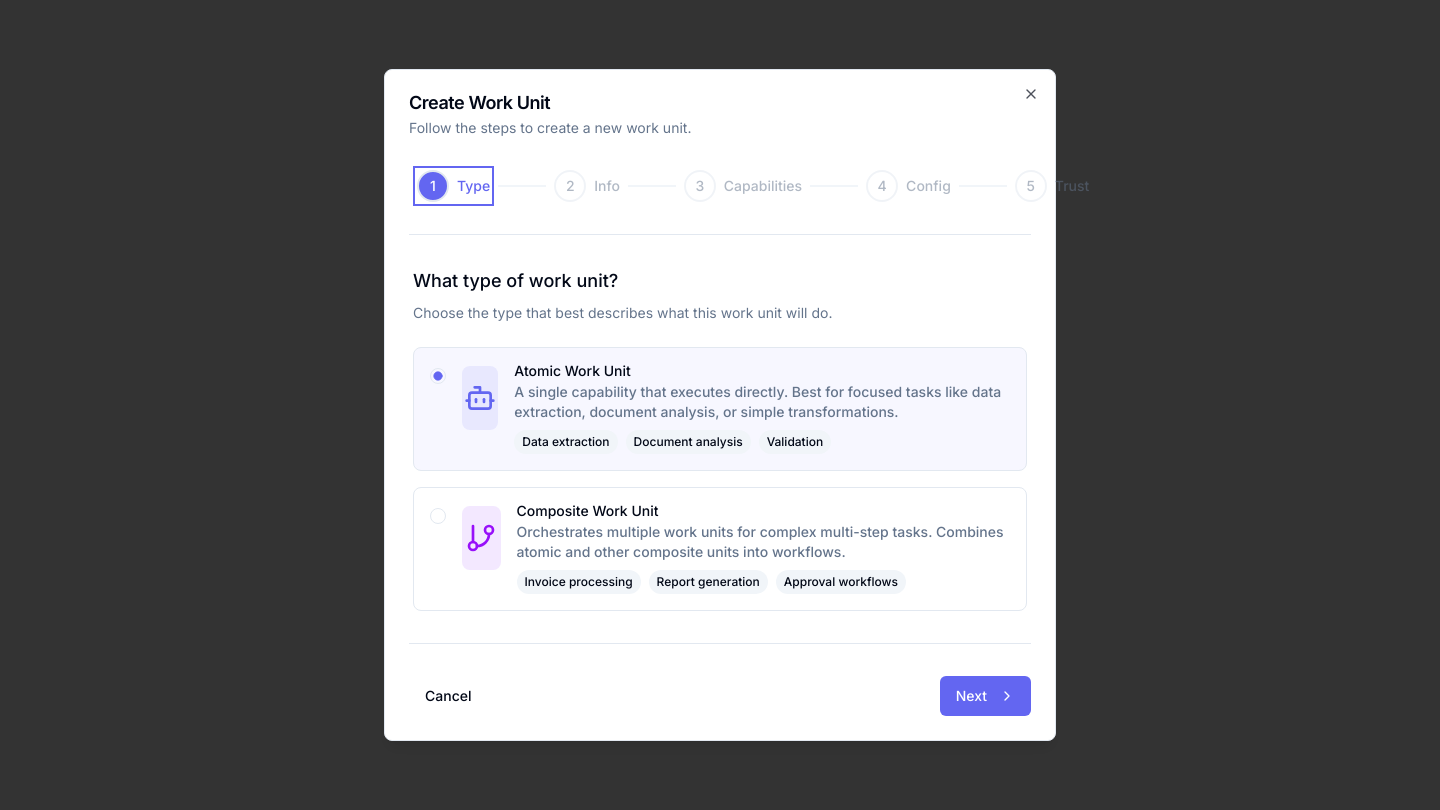
Test: WorkUnitCreateWizard › Step Navigation › should navigate back when clicking Back
Click the button with test id "wizard-next-btn".
click(985, 696)  # box x1=940 y1=676 x2=1031 y2=716
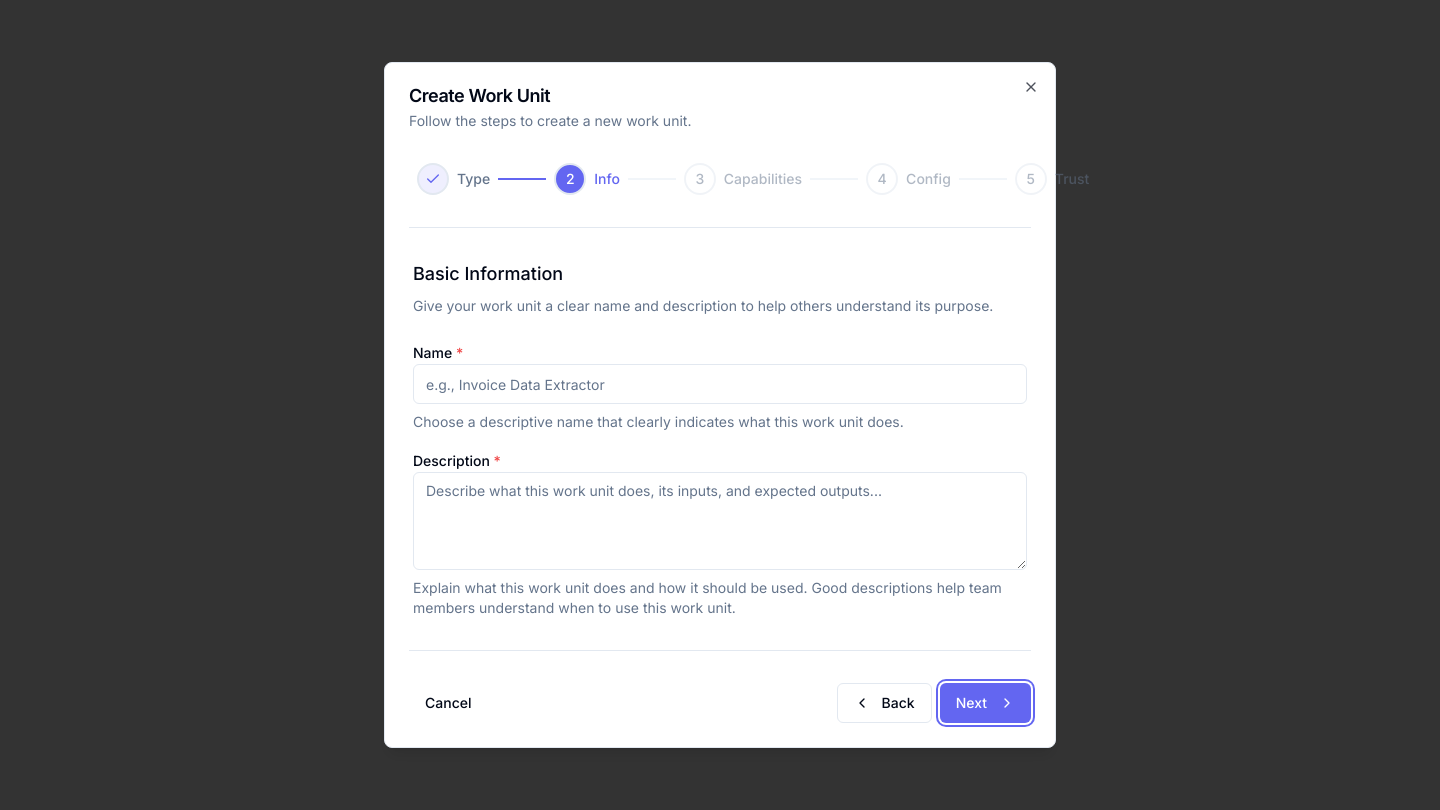
Click the button with test id "wizard-back-btn".
click(884, 703)  # box x1=837 y1=683 x2=932 y2=723
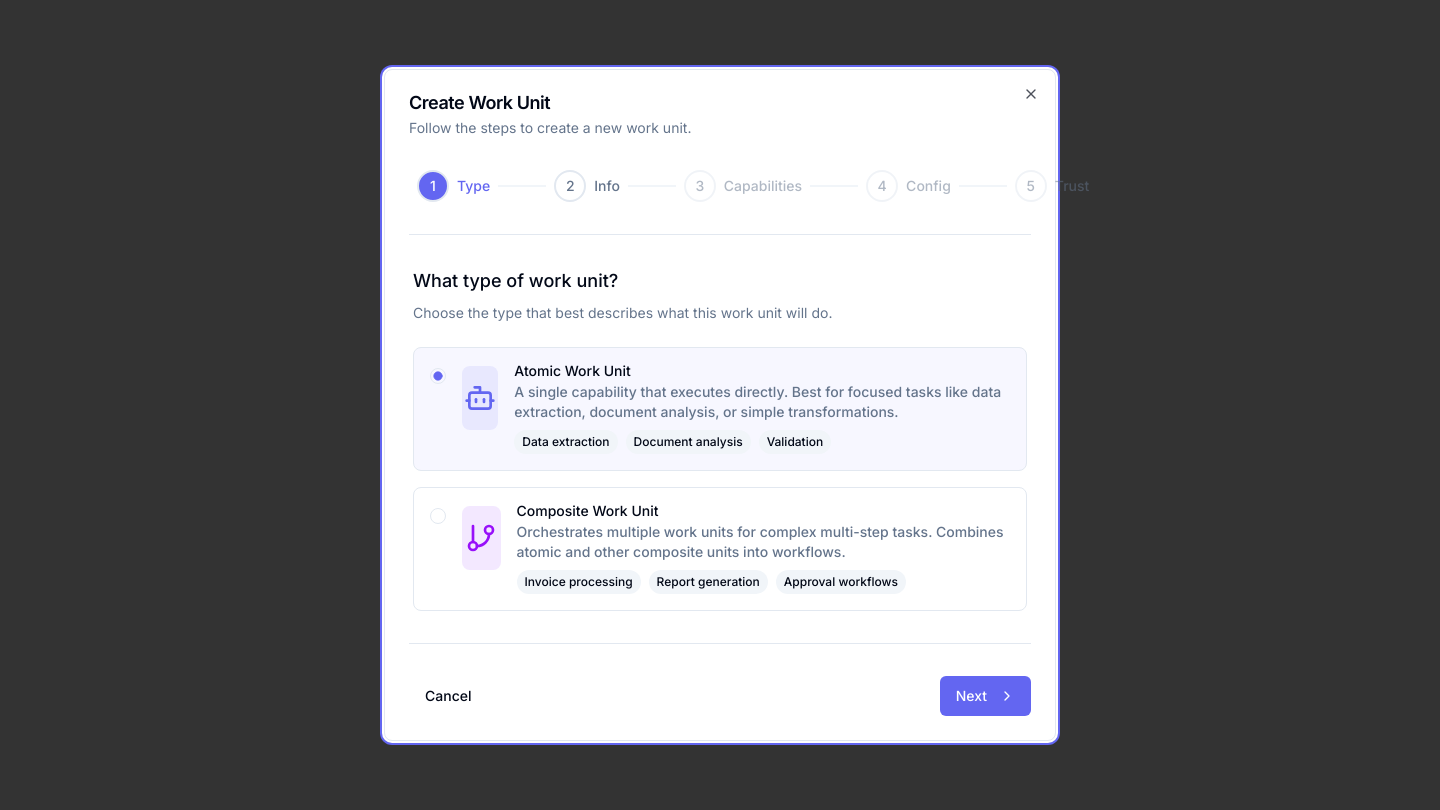
Result: the heading "What type of work unit?" is shown at x1=413 y1=270 x2=618 y2=291
